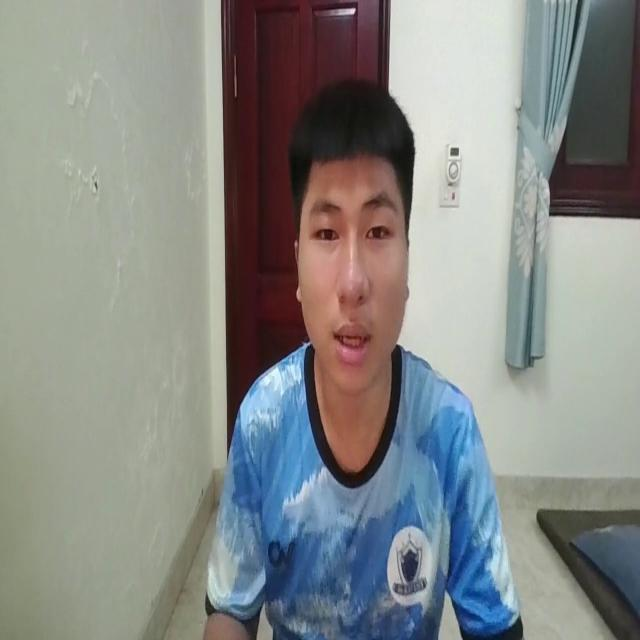student: (212, 72, 521, 640)
